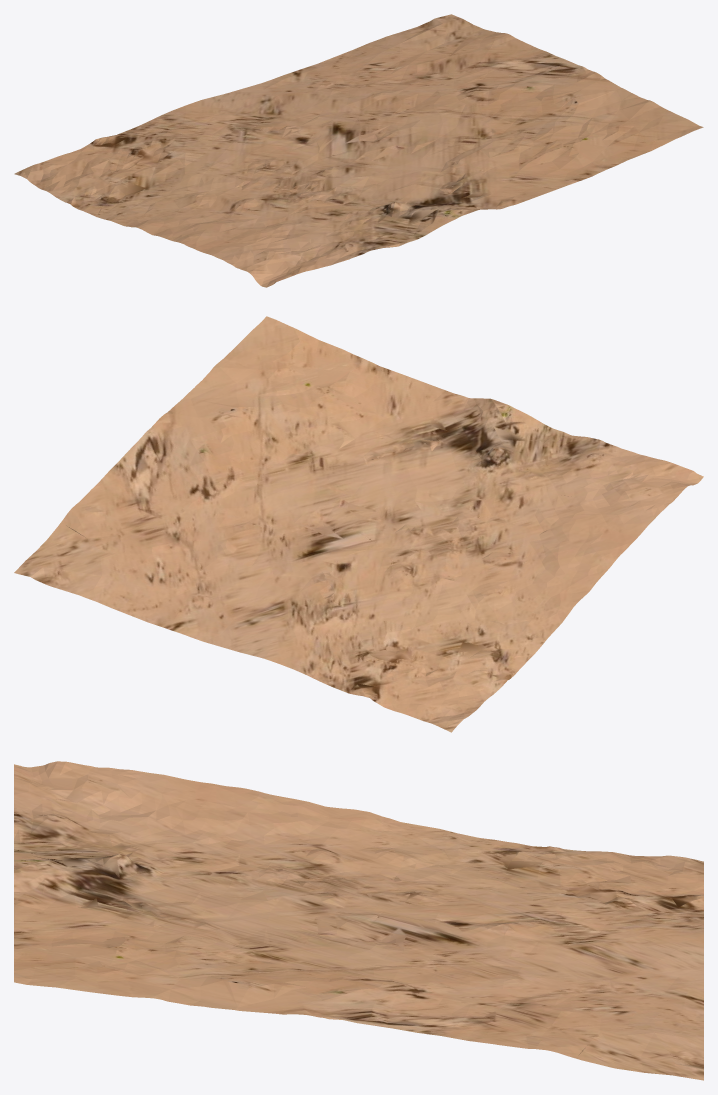
3 renders of one model, top to bottom at view 1: azimuth 30°, elevation 25°; view 2: azimuth 150°, elevation 25°; view 3: azimuth 270°, elevation 25°, orthographic. The views are drawn at different scales.
Bounding box in the file's own units: 4.18 × 1.14 × 4.18.
3 materials, 3 textured.
